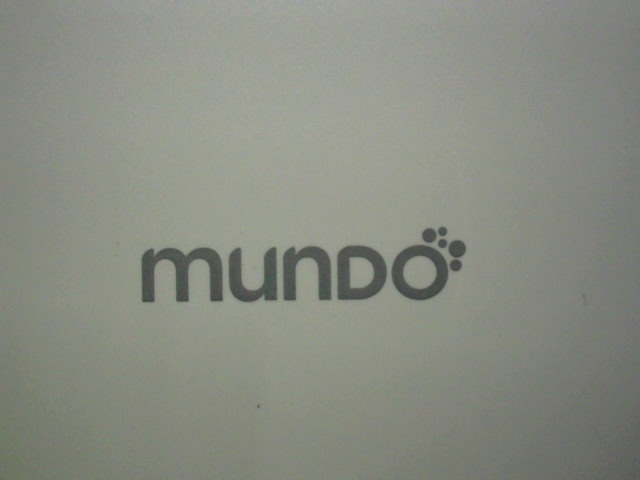BI_MUNDO: (127, 213, 473, 316)
